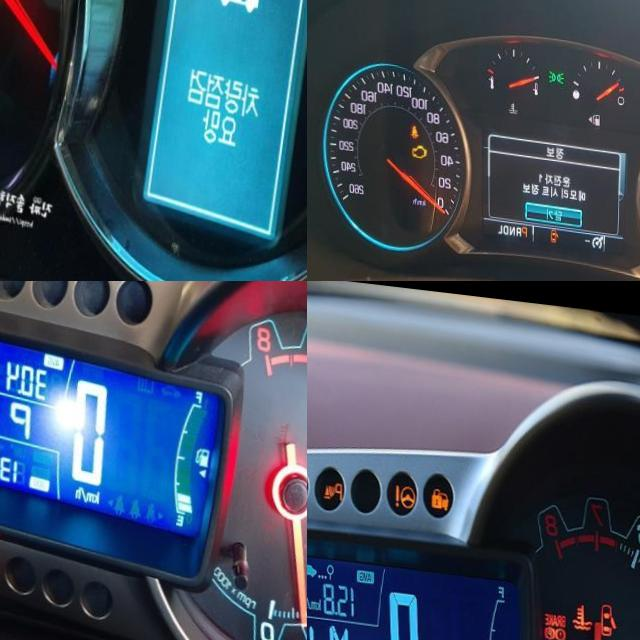Doors: (602, 590, 619, 626), (551, 221, 560, 234)
Engine cooling system: (574, 591, 594, 621)
SideLamp: (549, 61, 566, 78)
